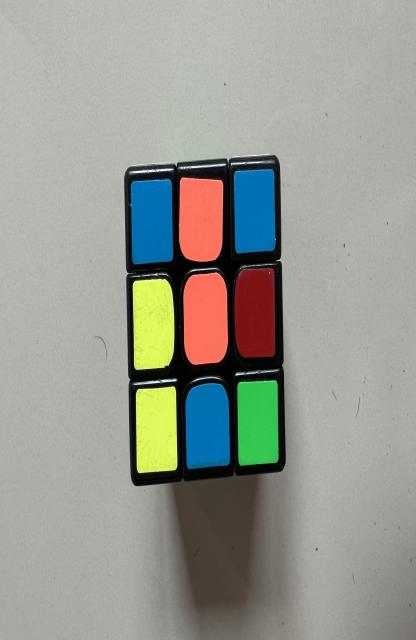Blue: (185, 384, 230, 471), (131, 180, 173, 265), (234, 168, 275, 253)
Green: (237, 380, 279, 467)
Orange: (184, 272, 228, 365), (179, 177, 223, 262)
Red: (235, 268, 275, 358)
Yellow: (132, 278, 175, 370), (136, 387, 178, 473)
